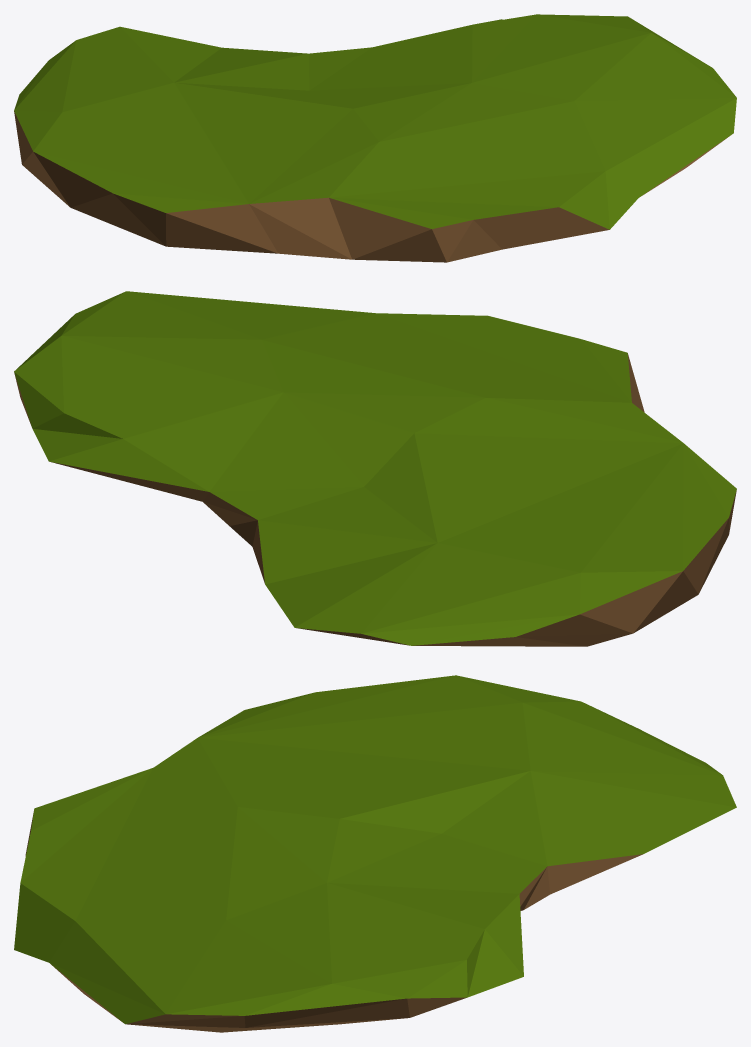
Rendered from Ground_4.glb.
3 renders of one model, top to bottom at view 1: azimuth 30°, elevation 25°; view 2: azimuth 150°, elevation 25°; view 3: azimuth 270°, elevation 25°, orthographic. The views are drawn at different scales.
Visible parts, largest first — view 1: Ground_04; view 2: Ground_04; view 3: Ground_04.
Boxes of the visible parts, x1,y1,x2,y2 form: Ground_04: (14,14,736,262); Ground_04: (14,291,736,646); Ground_04: (14,675,736,1032).
Size of the model in its own units: 9.33 by 1.3 by 8.26.
